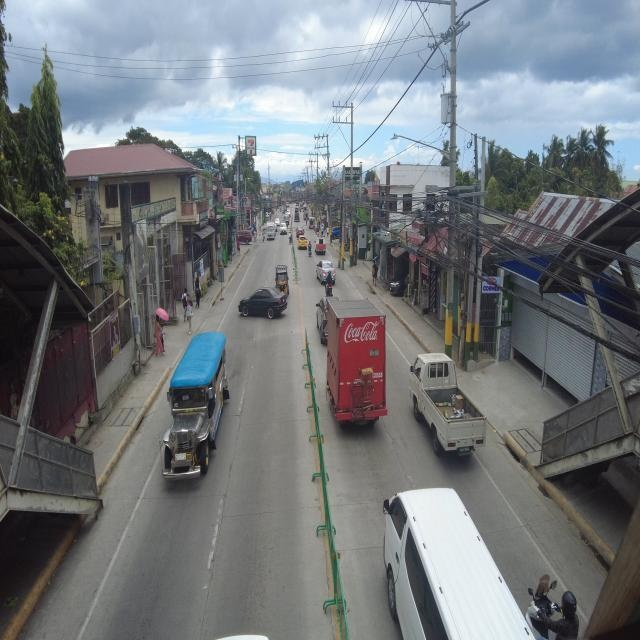Truck: (318, 298, 398, 437)
Van: (360, 482, 534, 640)
